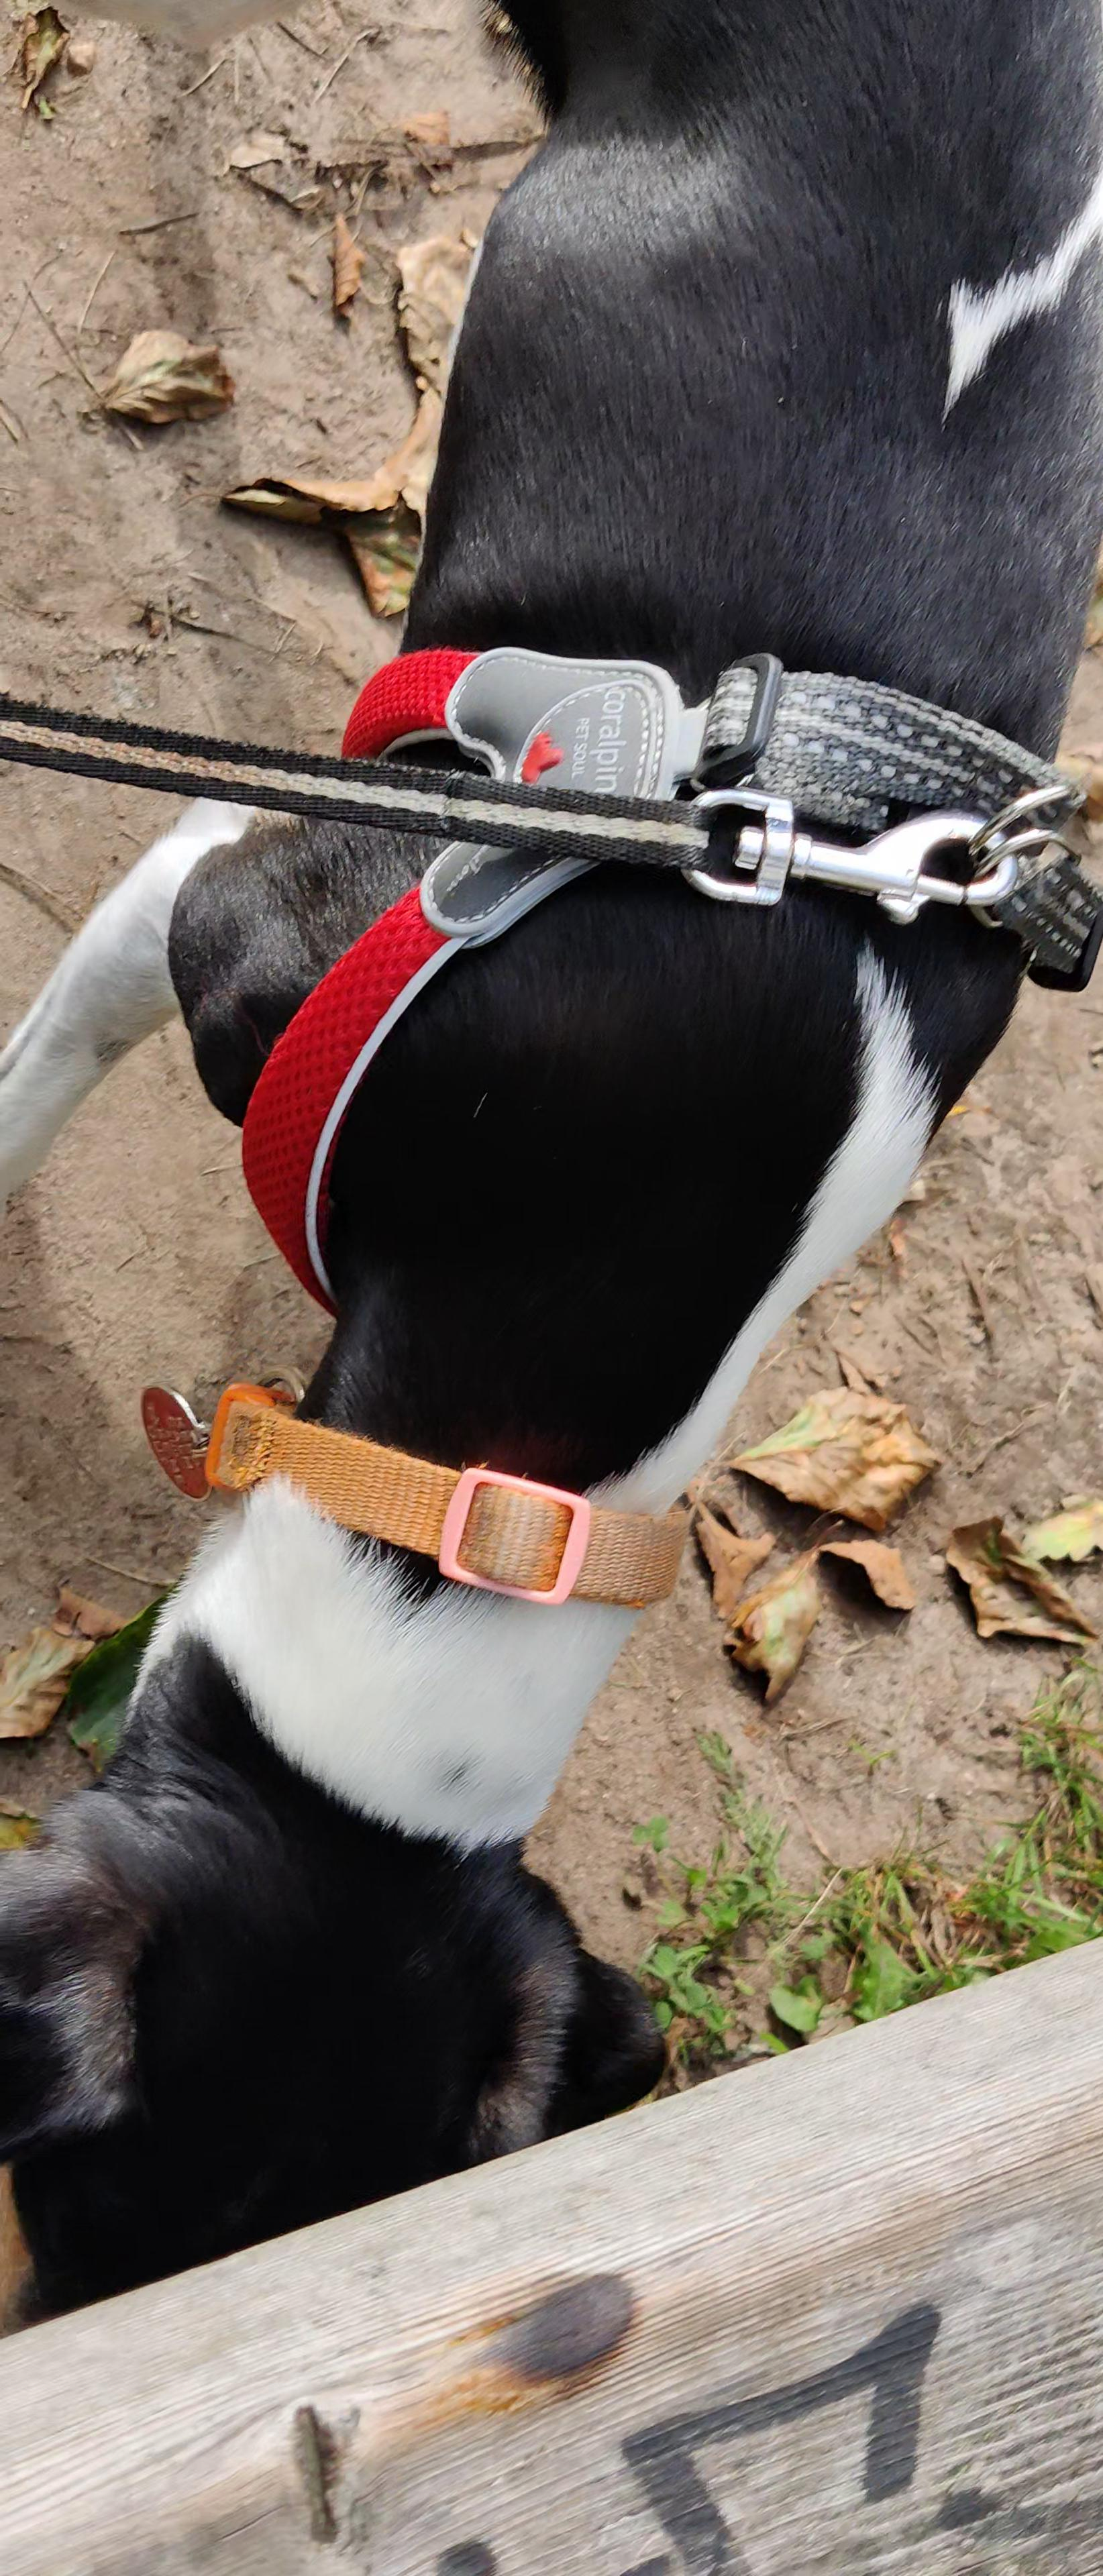Dog: (0, 0, 1103, 2353)
